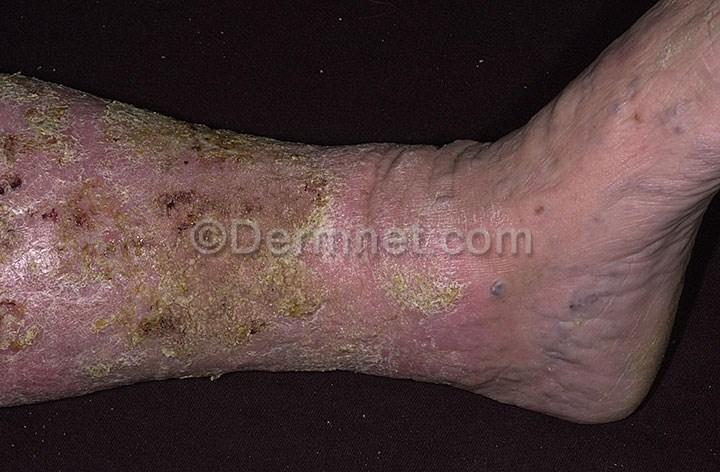Eczema: (197, 183, 295, 277), (91, 169, 199, 254), (0, 81, 94, 163), (295, 210, 378, 297), (123, 254, 209, 328), (0, 159, 87, 232), (0, 294, 70, 383), (384, 255, 459, 338), (94, 109, 188, 170), (127, 303, 203, 375), (209, 276, 291, 338), (385, 208, 480, 261), (0, 223, 58, 307), (277, 286, 356, 344), (266, 144, 342, 204), (48, 239, 123, 295), (593, 66, 658, 129), (196, 129, 268, 183), (625, 156, 689, 216), (338, 145, 403, 204), (658, 99, 716, 158), (565, 277, 625, 334), (286, 337, 390, 367), (70, 303, 132, 352), (423, 153, 467, 219), (506, 139, 572, 176), (65, 344, 127, 383), (576, 192, 623, 241), (480, 268, 523, 320), (510, 184, 551, 236)
